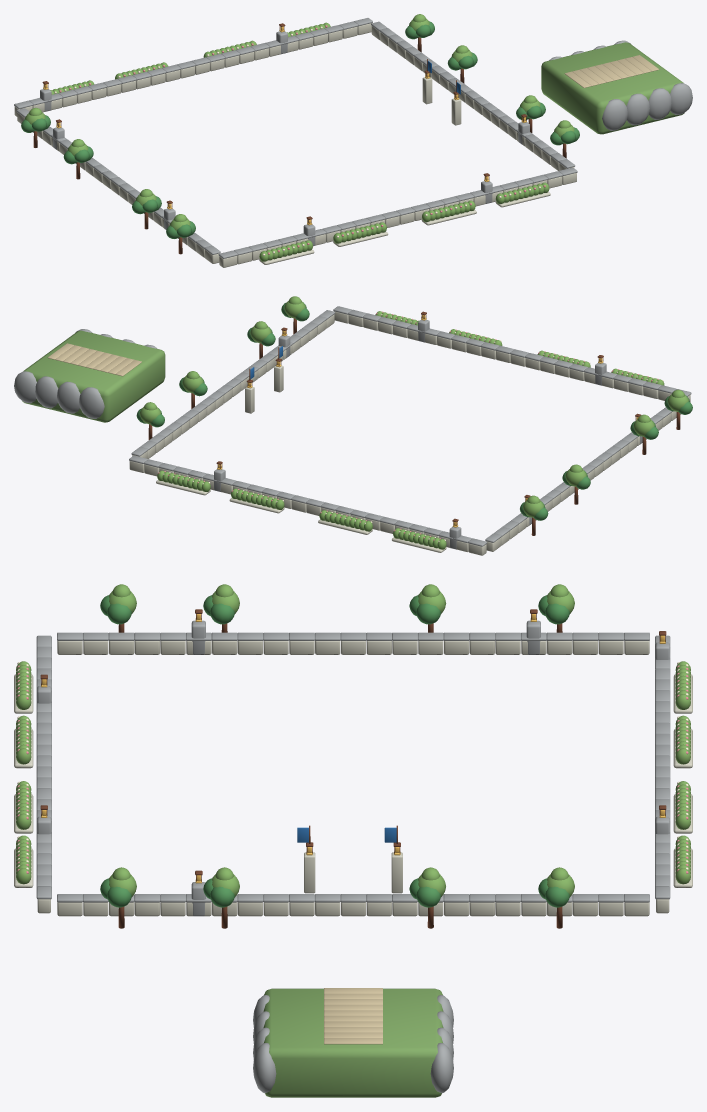
File: village_borders.glb
3 views of the same model, one above another, from view 1: azimuth 30°, elevation 25°; view 2: azimuth 150°, elevation 25°; view 3: azimuth 270°, elevation 25° (orthographic). The views are drawn at different scales.
Parts seen in each view (by area): view 1: village_borders_mesh; view 2: village_borders_mesh; view 3: village_borders_mesh.
Part boxes in pixels (x1,y1,x2,y2): village_borders_mesh: (14, 14, 692, 267); village_borders_mesh: (14, 296, 692, 555); village_borders_mesh: (14, 584, 692, 1097).
Bounding box in the file's own units: 38.82 × 4.97 × 26.35.
